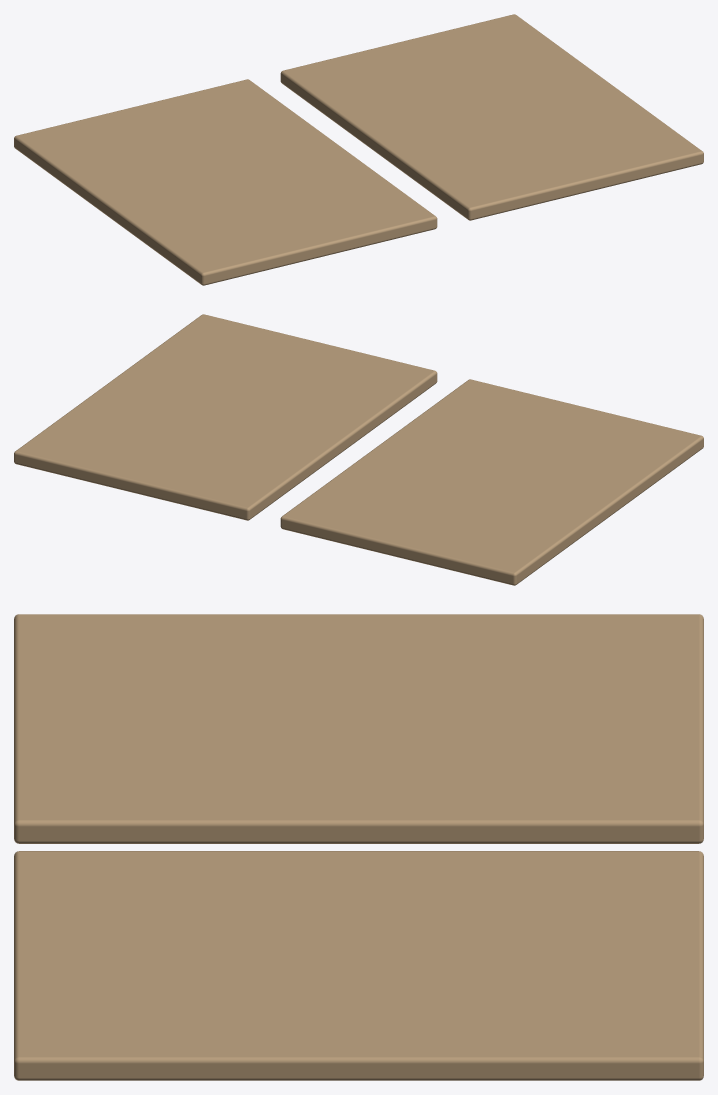
File: bookbinding-and-paper-mill-cover-board-pair-0d98e01f__30582.glb
The picture shows the model from 3 angles, top to bottom: view 1: azimuth 30°, elevation 25°; view 2: azimuth 150°, elevation 25°; view 3: azimuth 270°, elevation 25°; orthographic projection. The views are drawn at different scales.
Visible parts, largest first — view 1: cover-board-pair; view 2: cover-board-pair; view 3: cover-board-pair.
Boxes of the visible parts, x1,y1,x2,y2 form: cover-board-pair: (14,14,703,285); cover-board-pair: (14,314,703,585); cover-board-pair: (14,614,703,1080).
Bounding box in the file's own units: 0.49 × 0.012 × 0.32.
